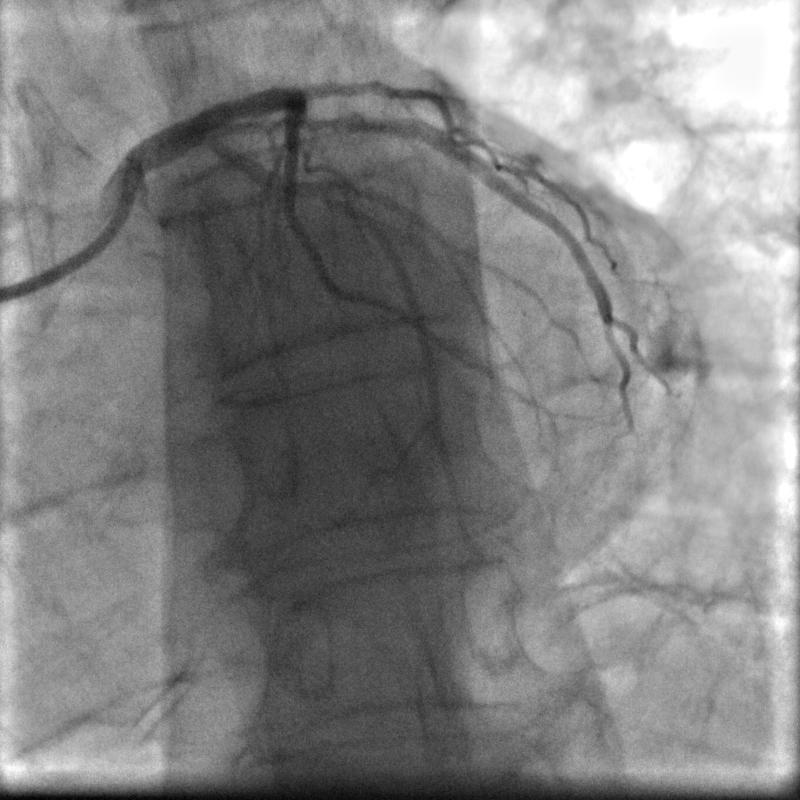Stenosis: (283, 121, 301, 186)
